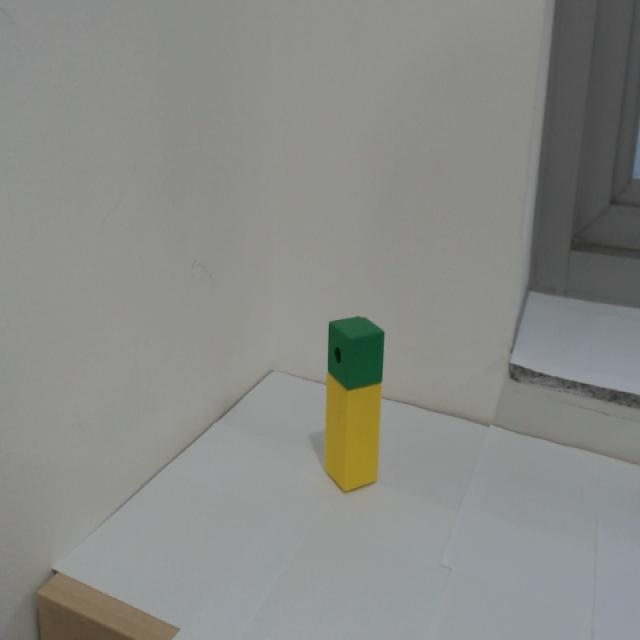cube: (326, 308, 390, 397)
